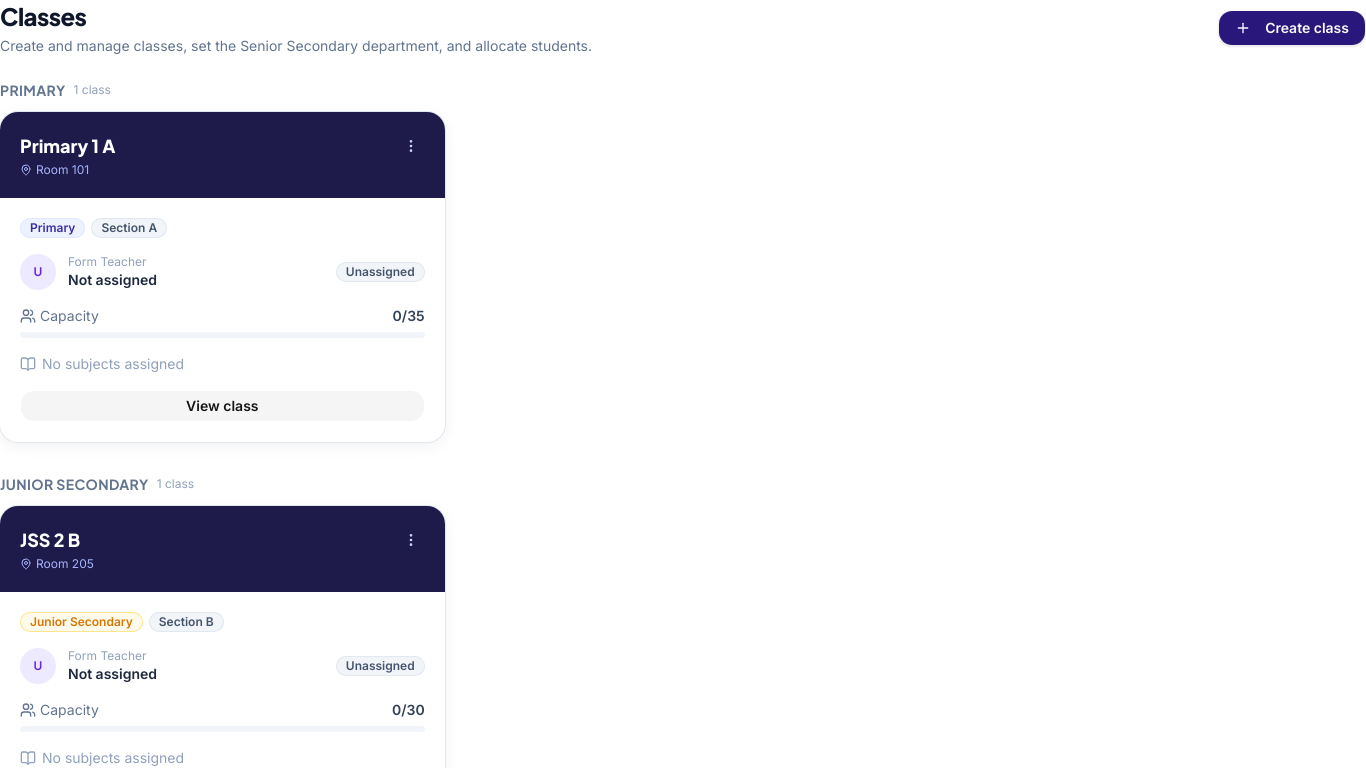
Test: ClassesView › create class modal › closes the modal after a successful class creation
This screenshot has width=1366, height=768.
# Open modal
Click the button "Create class". click: (1292, 28)
box: left=1218, top=10, right=1365, bottom=46
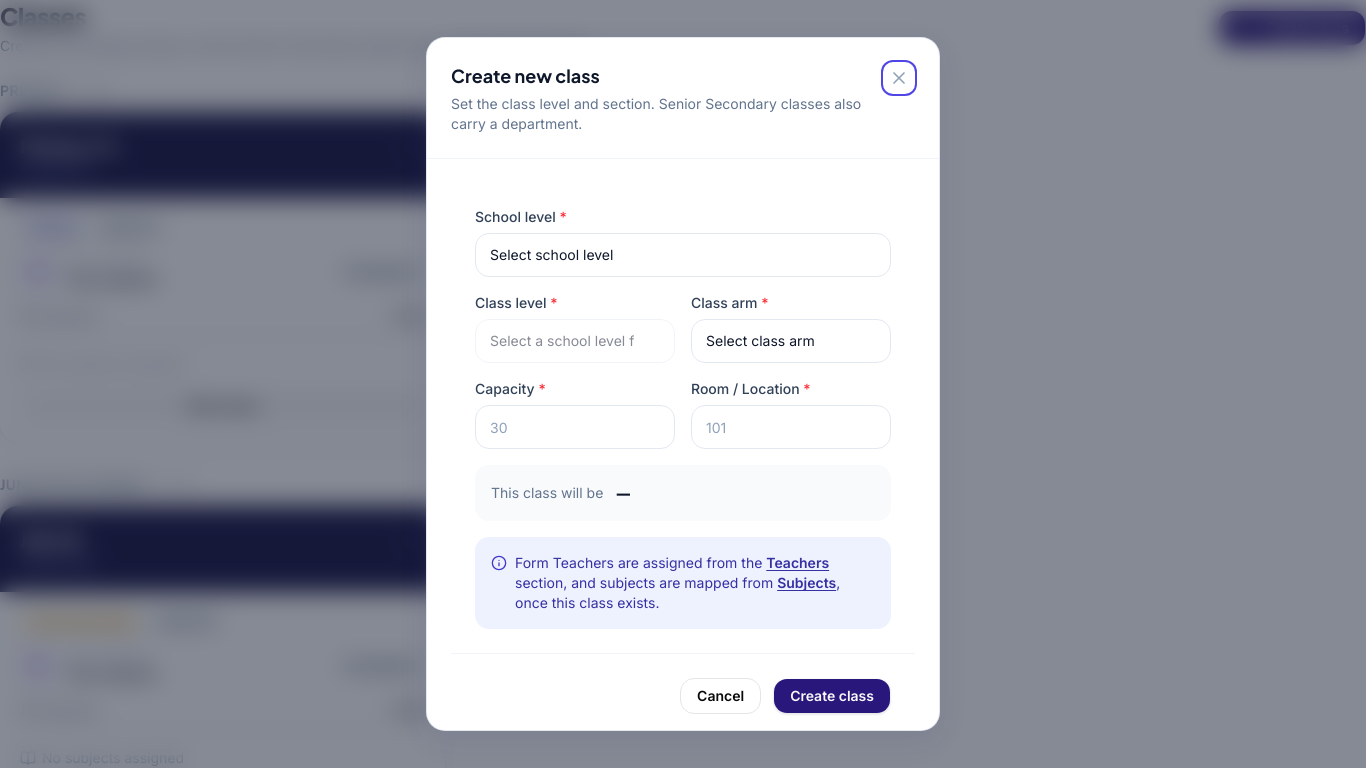
Now the dialog is shown, box left=427, top=38, right=939, bottom=730
Select "Primary" in the dropdown labelled "School level *". click: (683, 255)
box: left=475, top=233, right=891, bottom=277
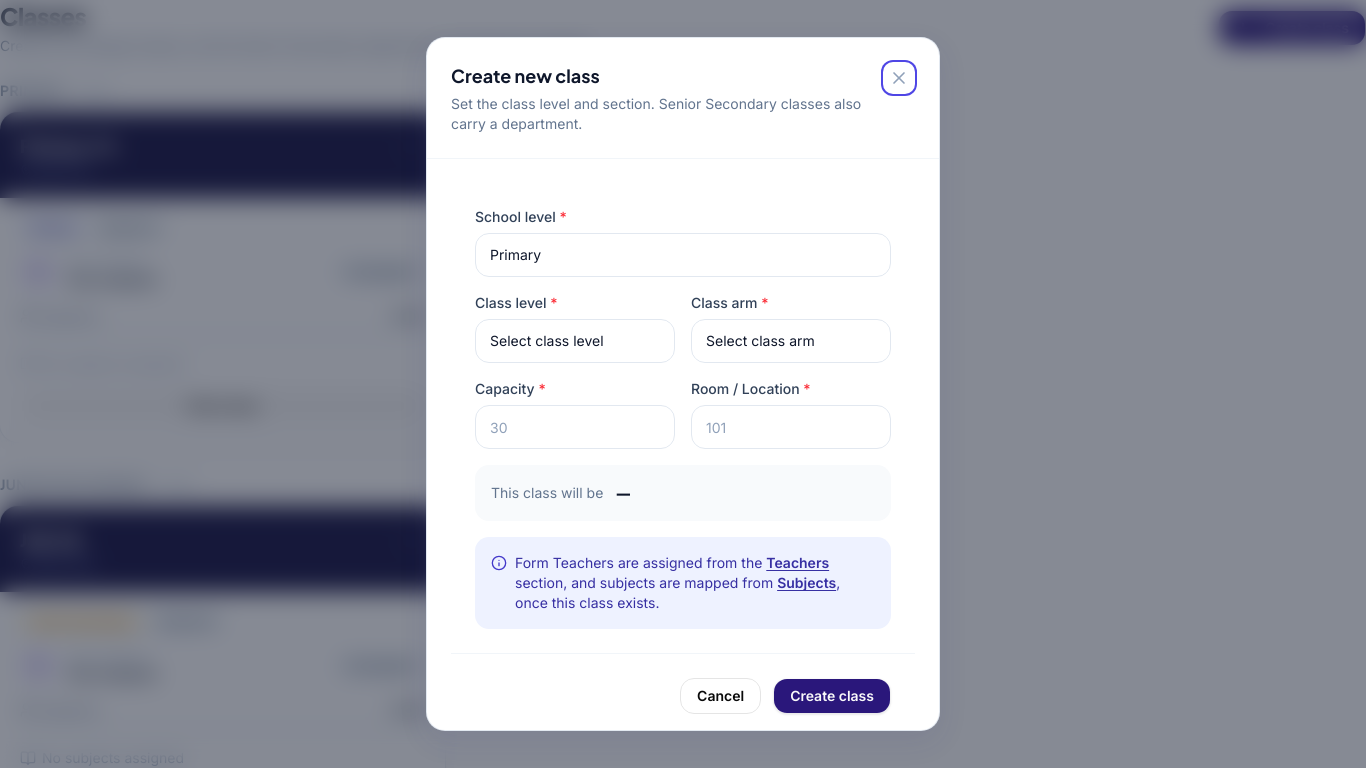
Now the dropdown labelled "Class level *" is enabled
Select "Primary 2" in the dropdown labelled "Class level *". click: (575, 341)
box: left=475, top=319, right=675, bottom=363
Select "B" in the dropdown labelled "Class arm *". click: (791, 341)
box: left=691, top=319, right=891, bottom=363
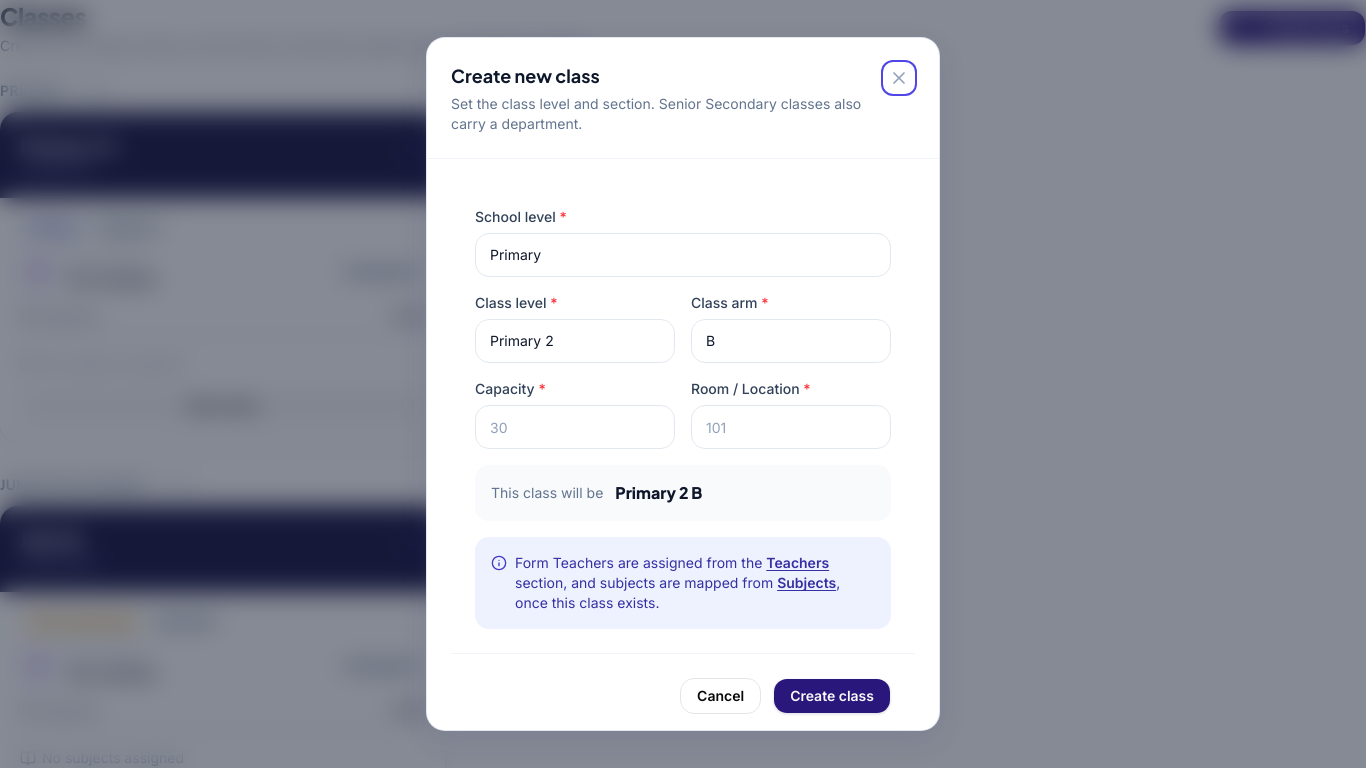
Type "301" into the number field labelled "Room / Location *". click: (791, 427)
box: left=691, top=405, right=891, bottom=449
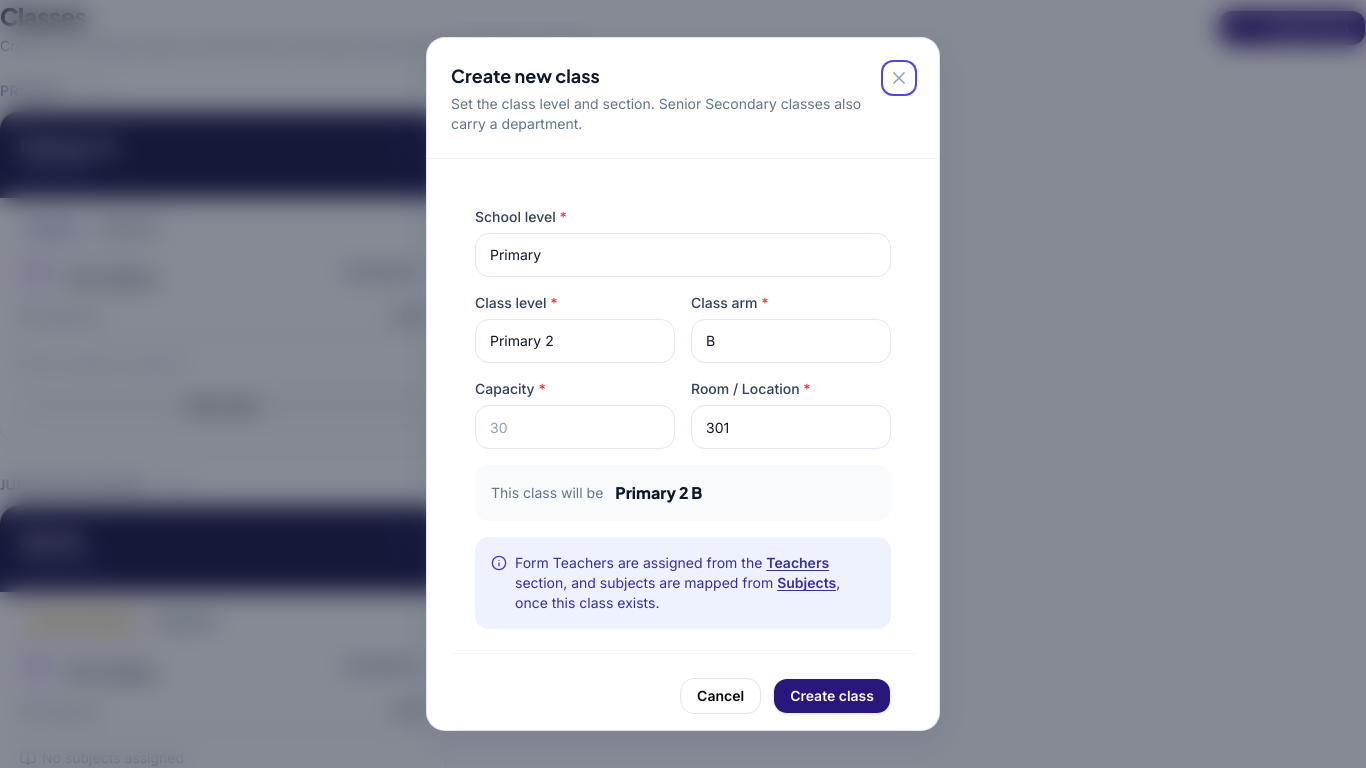
Type "35" into the number field labelled "Capacity *". click: (575, 427)
box: left=475, top=405, right=675, bottom=449
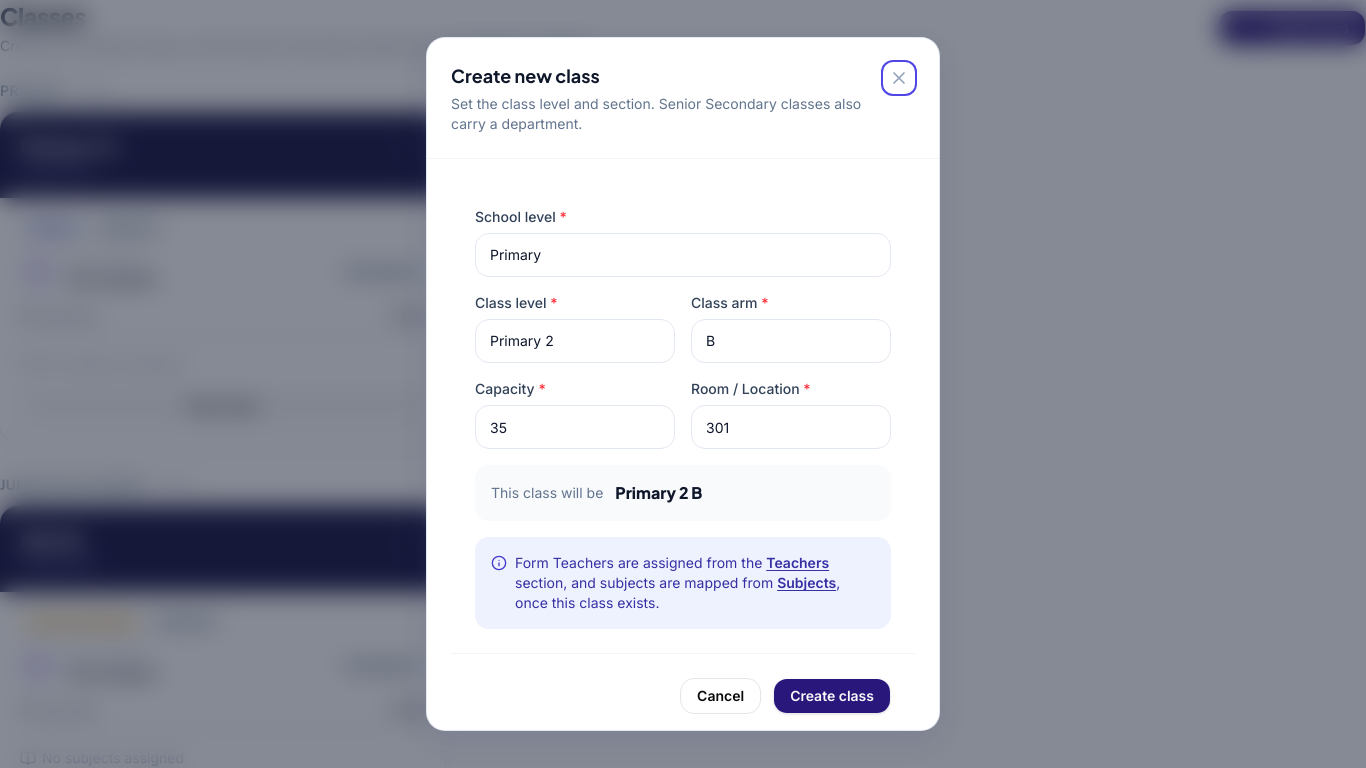
Submit the form, box left=451, top=183, right=915, bottom=738
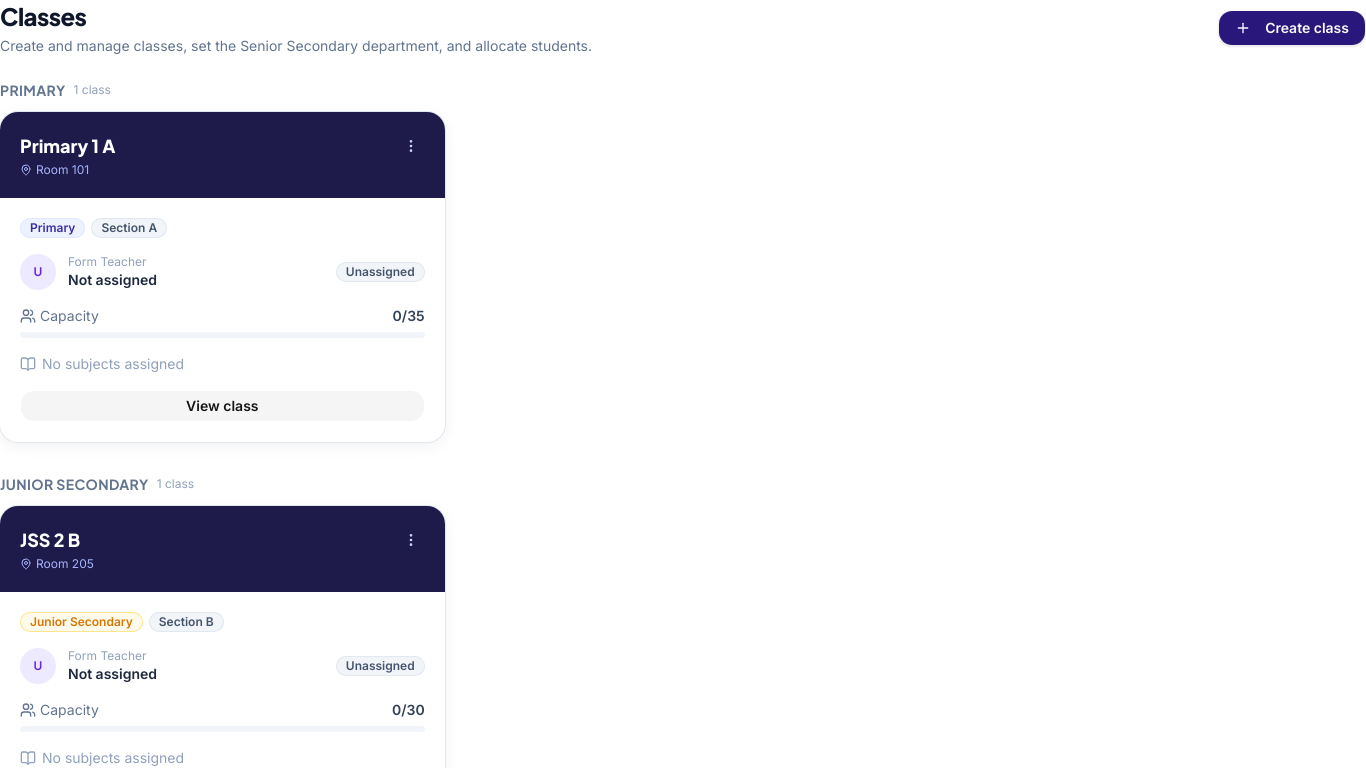
Now the dialog is gone
